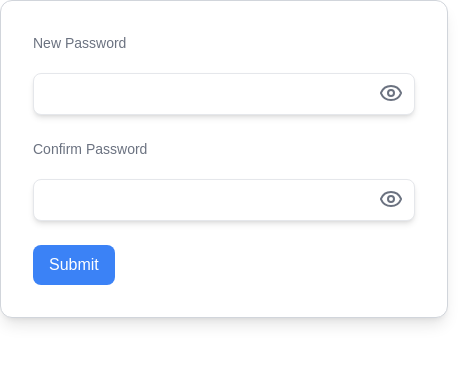
Test: ResetPasswordCard Component › Does not submit the form if passwords do not match
Type "newpassword123" into the password field labelled "New Password".
click(224, 94); type("newpassword123")  # box [33,73,415,115]
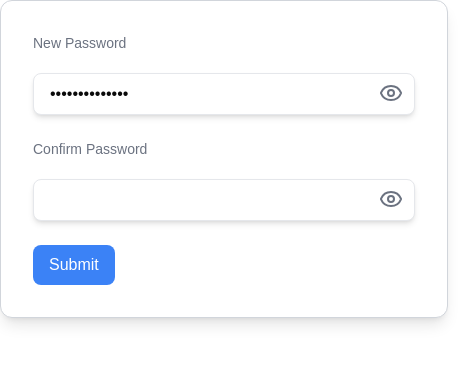
Type "differentpassword" into the password field labelled "Confirm Password".
click(224, 200); type("differentpassword")  # box [33,179,415,221]
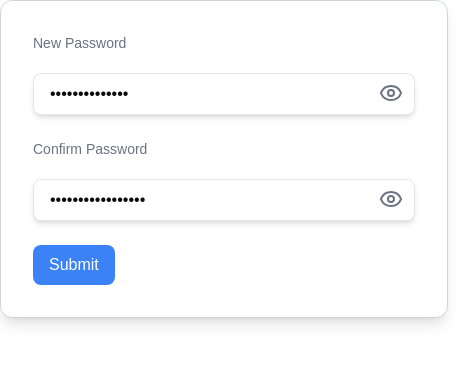
Submit the form with test id "reset-password-form"
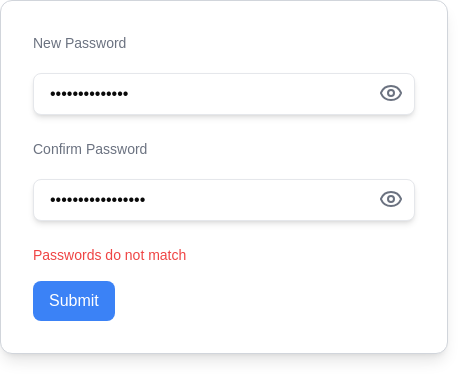
Expected: the text "Passwords do not match" is shown, [33,247,186,263]
